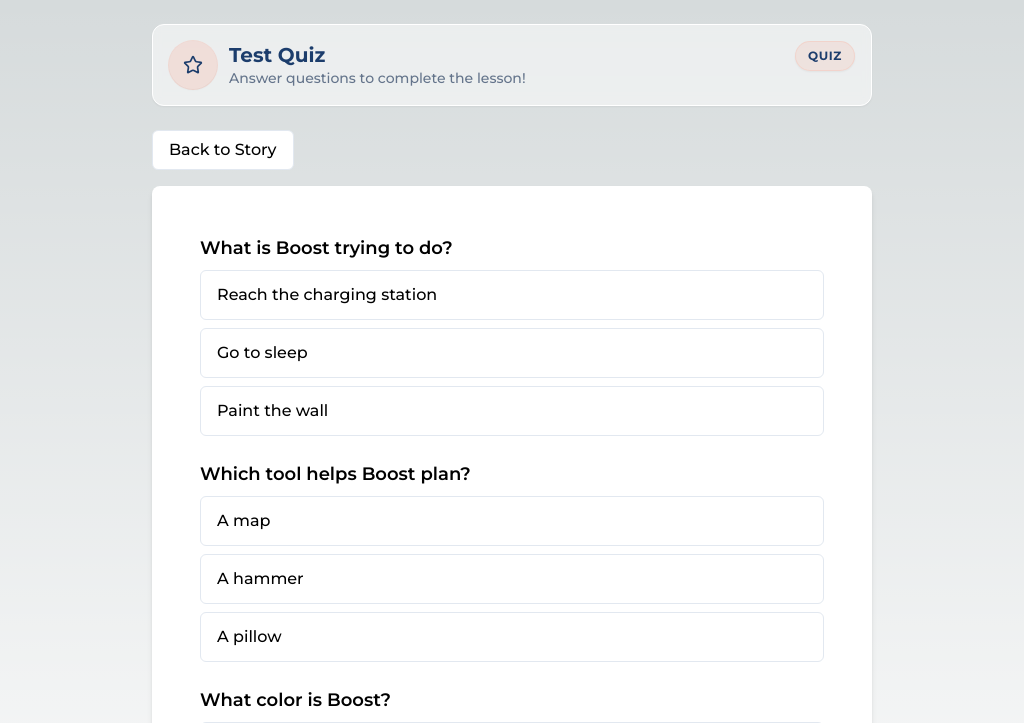
Test case: LegacyListQuiz › wrong submit shows tryAgain, red styling, hint, and toast
The image size is (1024, 723).
Step 1. Click the button "Go to sleep" → (262, 352), box [200,328,824,378]
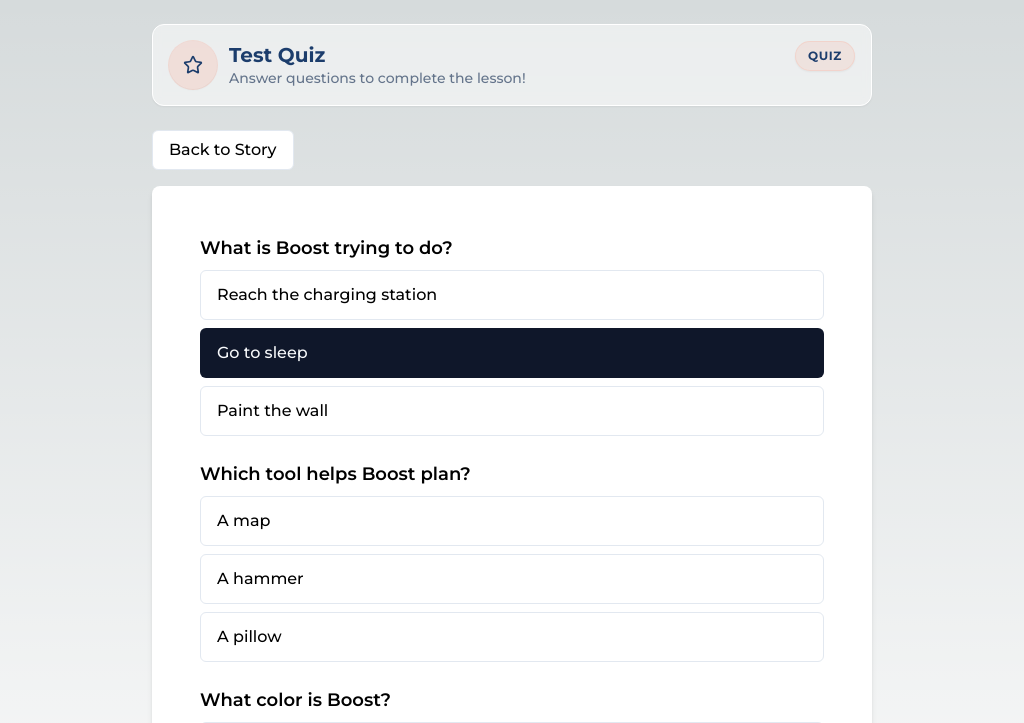
Step 2. Click the button "A hammer" → (260, 578), box [200,554,824,604]
(page scrolled)
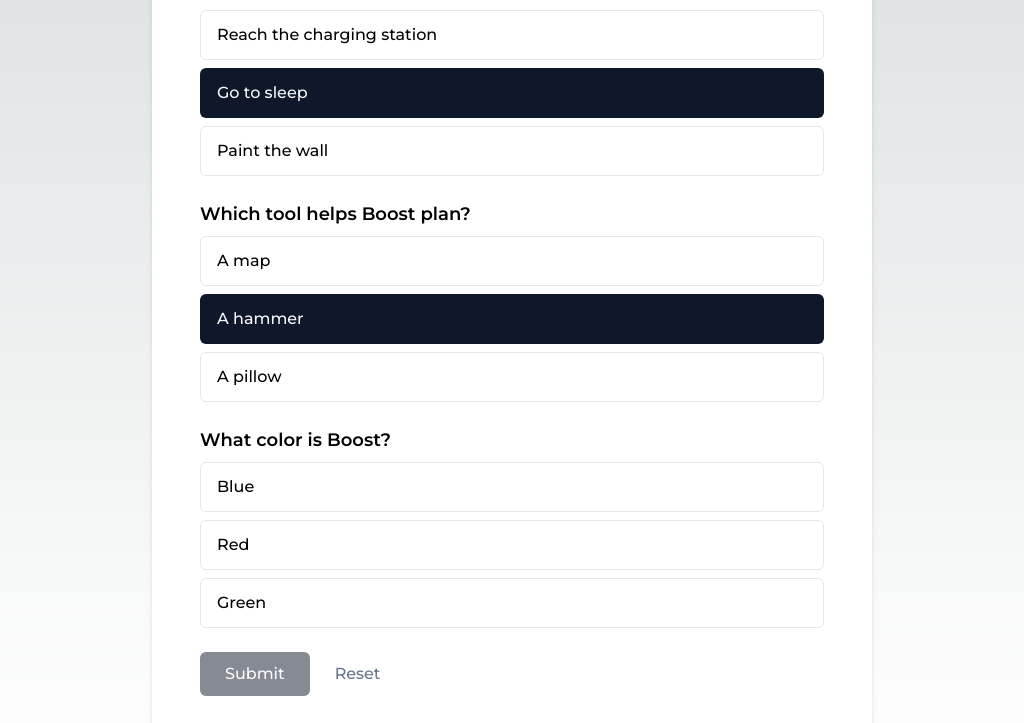
Step 3. Click the button "Red" → (233, 544), box [200,520,824,570]
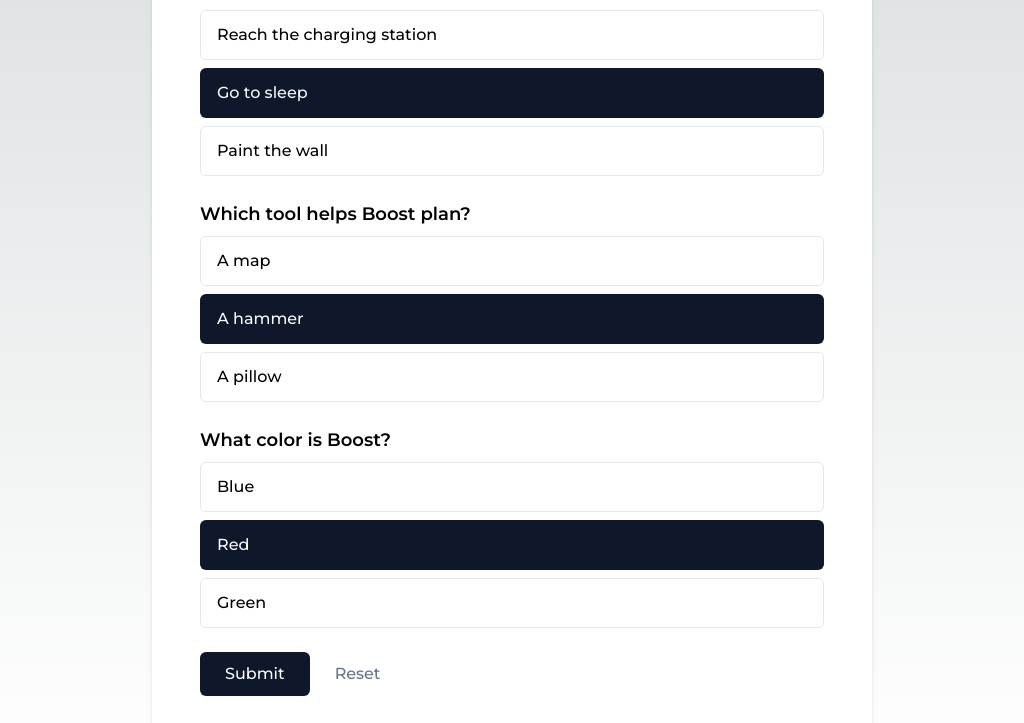
Step 4. Click the button "Submit" → (255, 674), box [200,652,310,696]
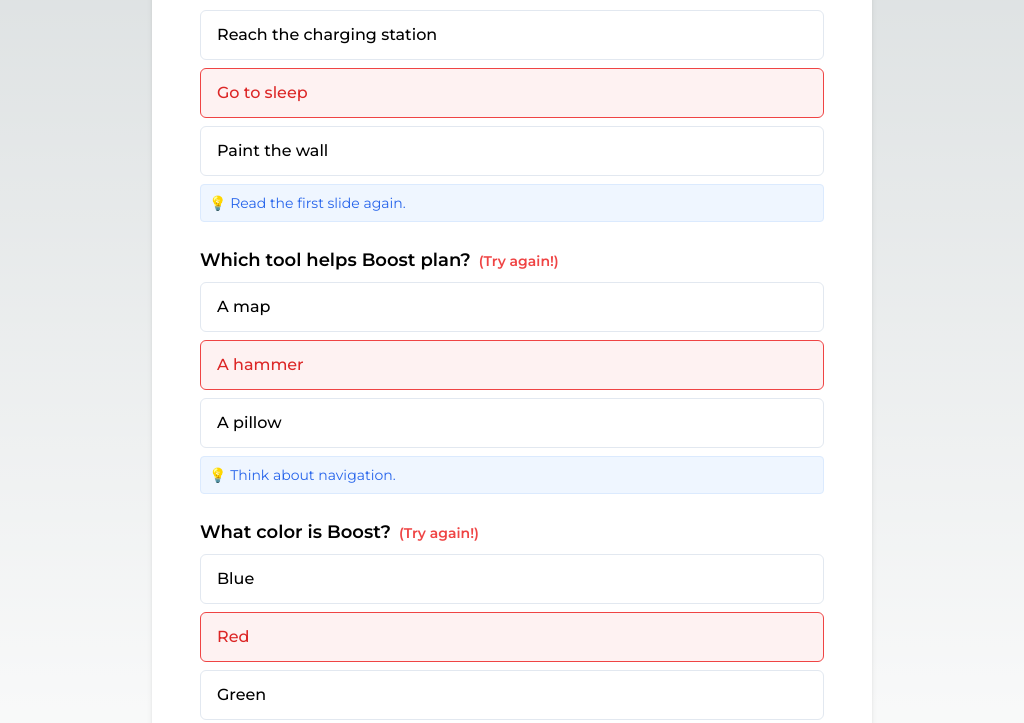
Check: the text "(Try again!)" is shown 3 times
Check: the text "💡 Read the first slide again." is shown, box [200,184,824,222]
